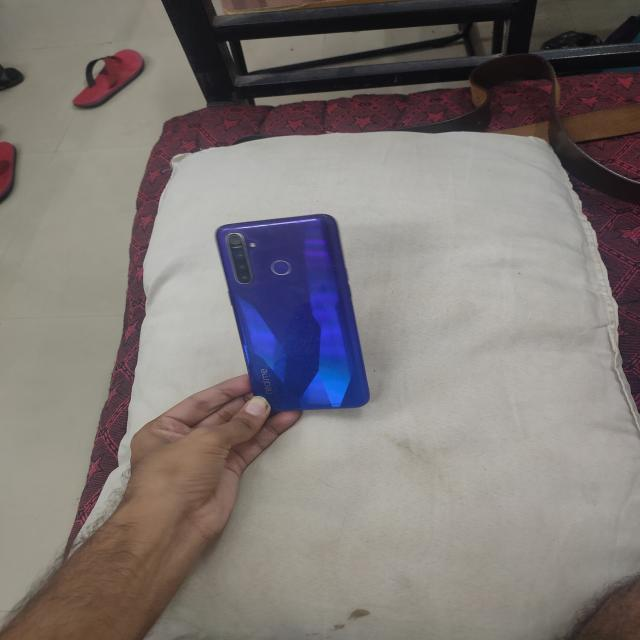Phone: (210, 211, 378, 414)
